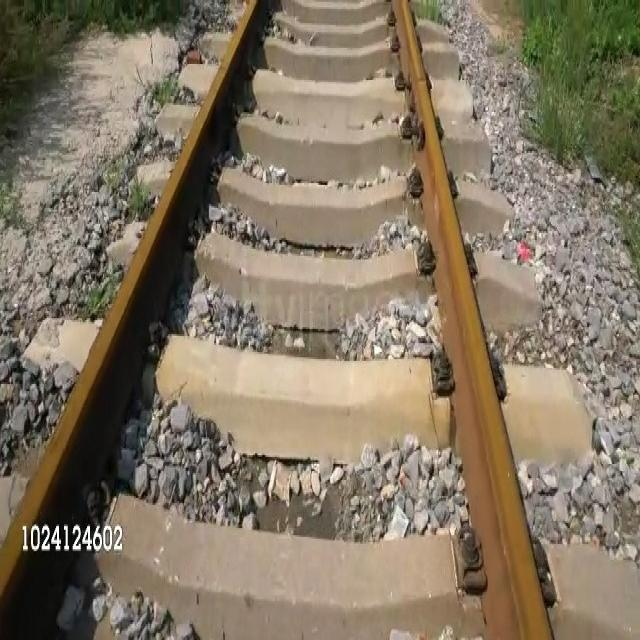Plant: (0, 0, 199, 148), (520, 0, 639, 191), (77, 282, 109, 323), (125, 181, 151, 217), (414, 0, 447, 23), (148, 84, 176, 107)
